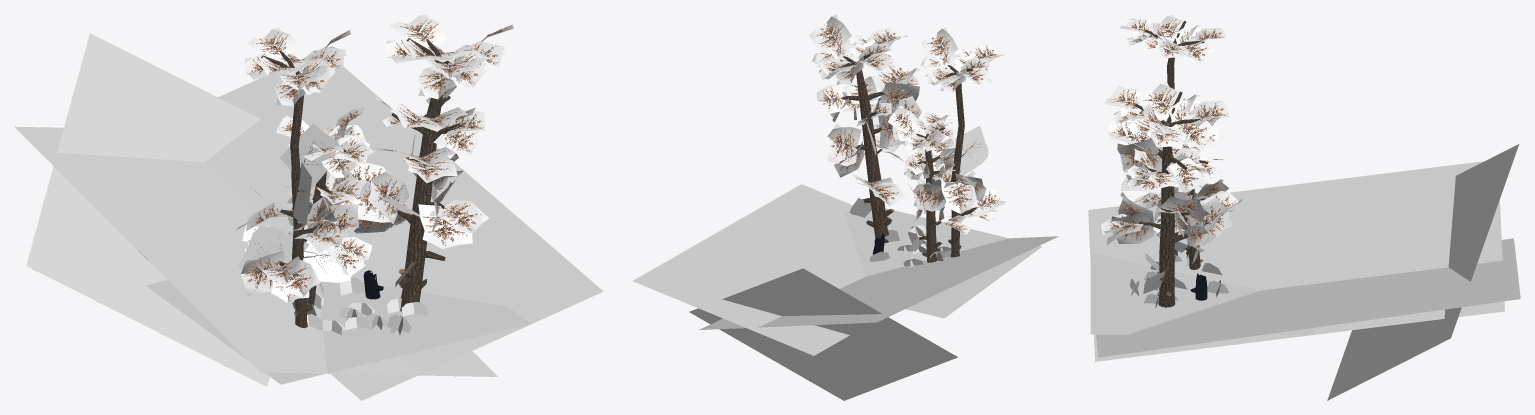
Rendered from room_forest.glb.
3 renders of one model, left to right at view 1: azimuth 30°, elevation 25°; view 2: azimuth 150°, elevation 25°; view 3: azimuth 270°, elevation 25°, orthographic. The views are drawn at different scales.
Parts seen in each view (by area): view 1: m4, m3, m2, m9, m5, m1, m10, m6, m11, m12; view 2: m4, m3, m9, m2, m5, m1, m10, m11, m6, m12; view 3: m2, m4, m9, m3, m10, m1, m5, m6, m11, m12.
Boxes of the visible parts, x1,y1,x2,y2 form: m4: (205, 58, 603, 400); m3: (26, 33, 269, 386); m2: (14, 126, 497, 376); m9: (328, 14, 513, 287); m5: (235, 27, 359, 303); m1: (146, 280, 530, 384); m10: (350, 19, 511, 311); m6: (243, 32, 356, 328); m11: (242, 108, 373, 293); m12: (247, 110, 367, 305); m4: (633, 184, 865, 355); m3: (689, 268, 957, 400); m9: (809, 14, 921, 217); m2: (699, 236, 1058, 329); m5: (913, 27, 1006, 221); m1: (844, 208, 1042, 318); m10: (814, 21, 918, 243); m11: (888, 105, 971, 251); m6: (922, 33, 999, 257); m12: (893, 110, 966, 262); m2: (1088, 161, 1504, 361); m4: (1096, 238, 1520, 357); m9: (1101, 82, 1242, 293); m3: (1327, 144, 1519, 400); m10: (1109, 88, 1235, 307); m1: (1090, 252, 1313, 334); m5: (1119, 14, 1226, 232); m6: (1127, 19, 1223, 255); m11: (1153, 117, 1228, 263); m12: (1154, 118, 1223, 269).
Size of the model in its own units: 20.28 by 21.73 by 23.26.
5 materials, 1 textured.
